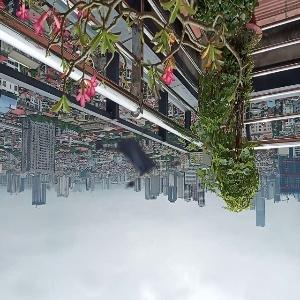drone: (76, 111, 173, 208)
